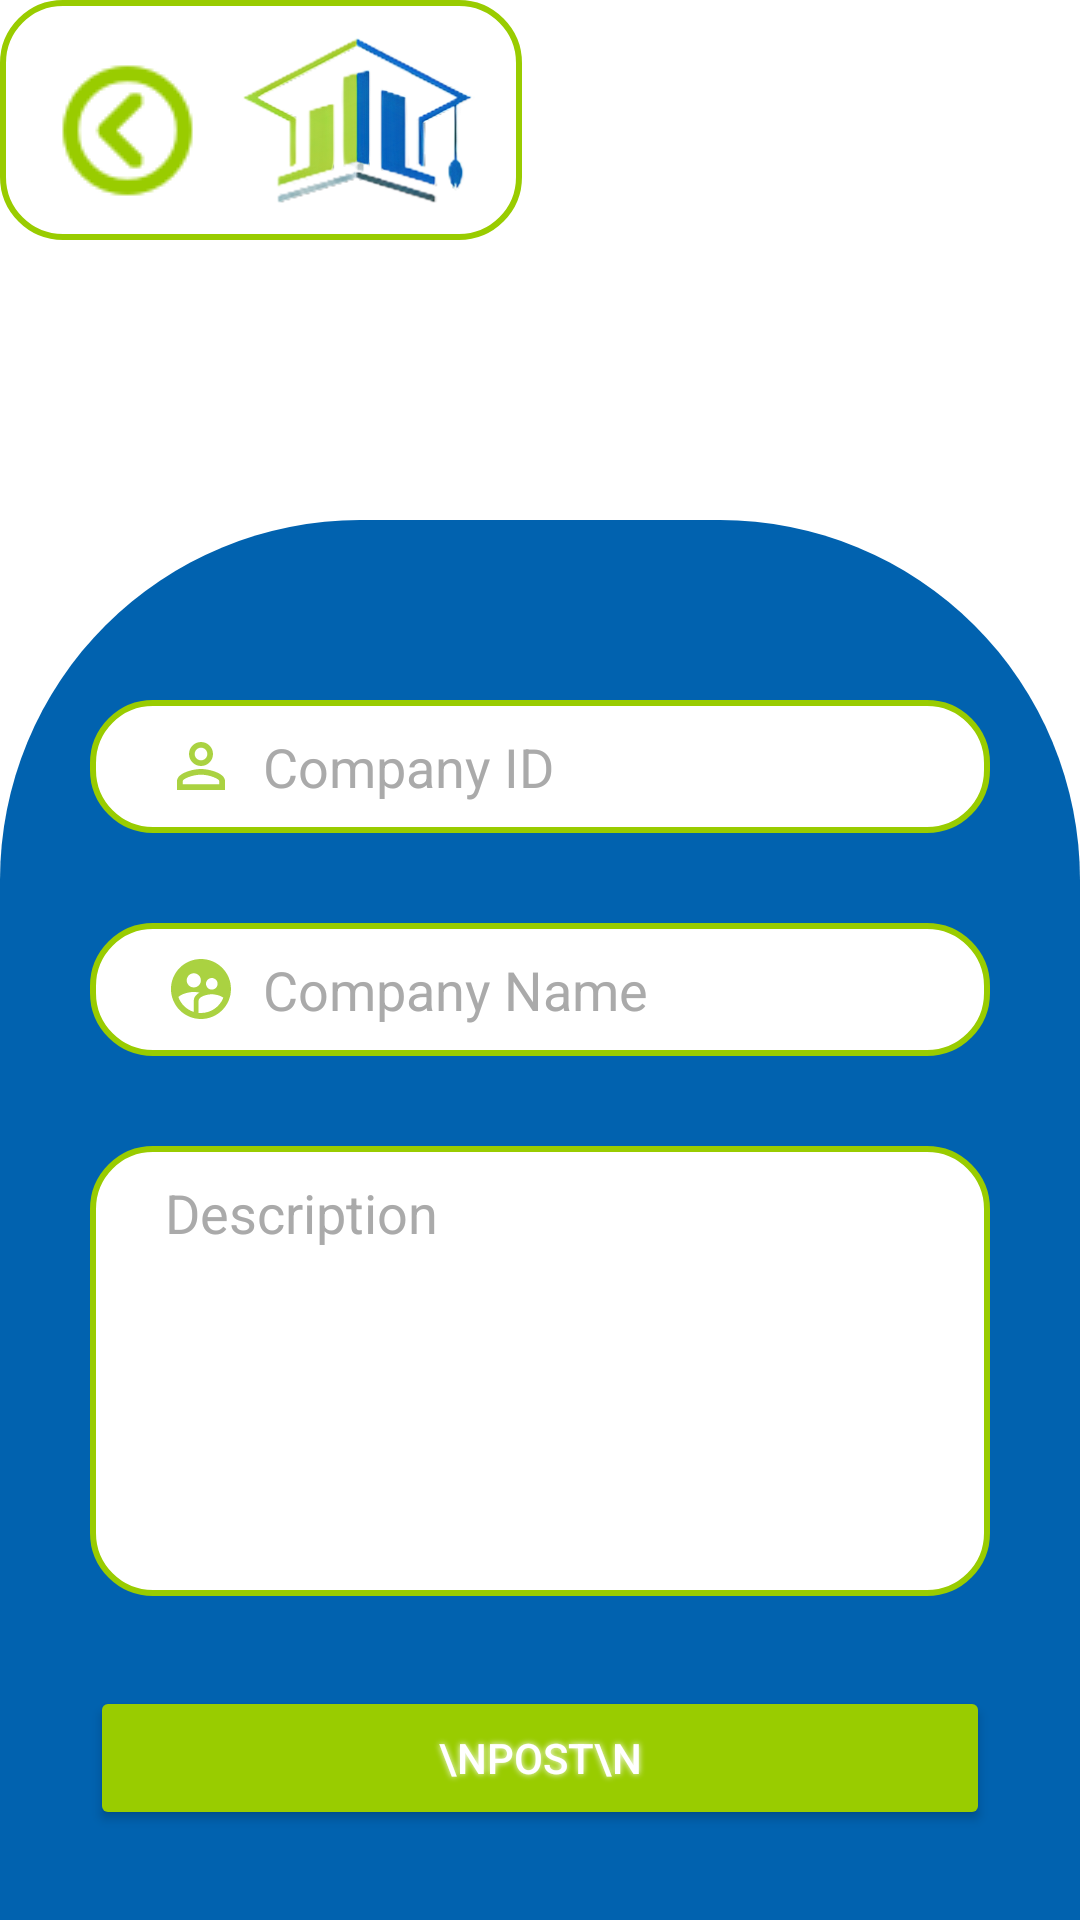

Point at icon controls on the screen. Image size 1080 × 1920, points as (x,y).
back: (127,130)
